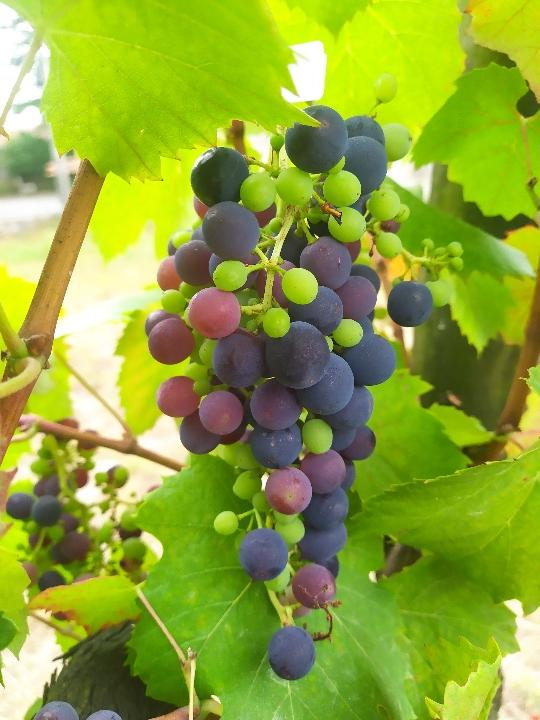grape: (144, 76, 464, 683)
